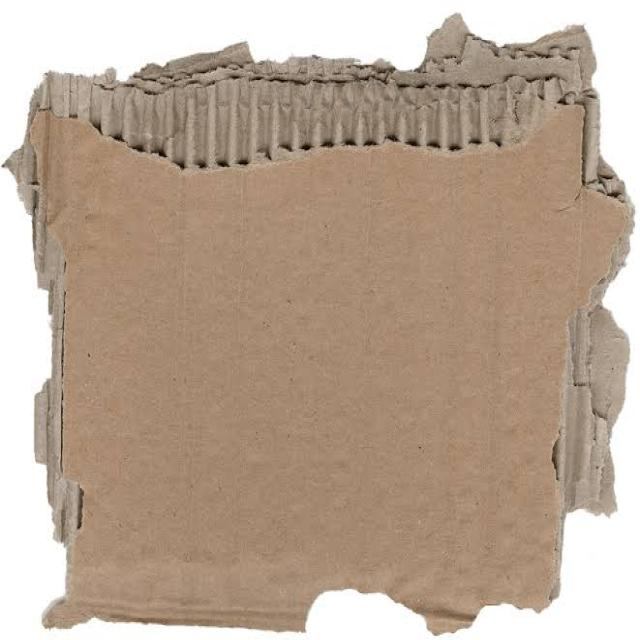paper: (3, 3, 624, 627)
